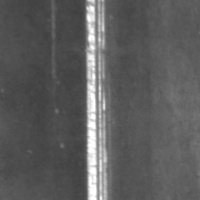scratches: (83, 1, 112, 200)
